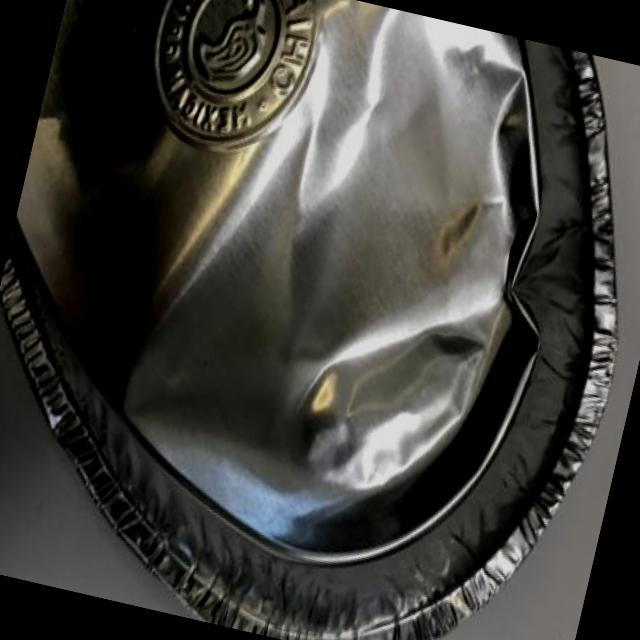kim_loai: (0, 0, 623, 640)
